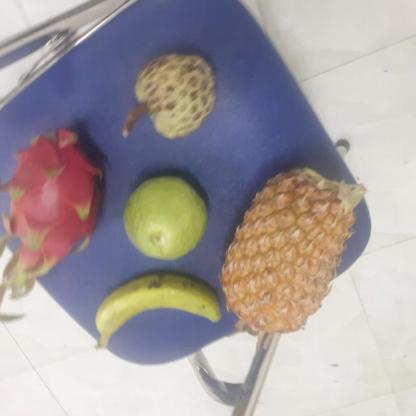annona: (132, 53, 221, 136)
guava: (122, 174, 213, 258)
pineapple: (226, 164, 362, 327)
pitaya: (0, 126, 110, 281)
